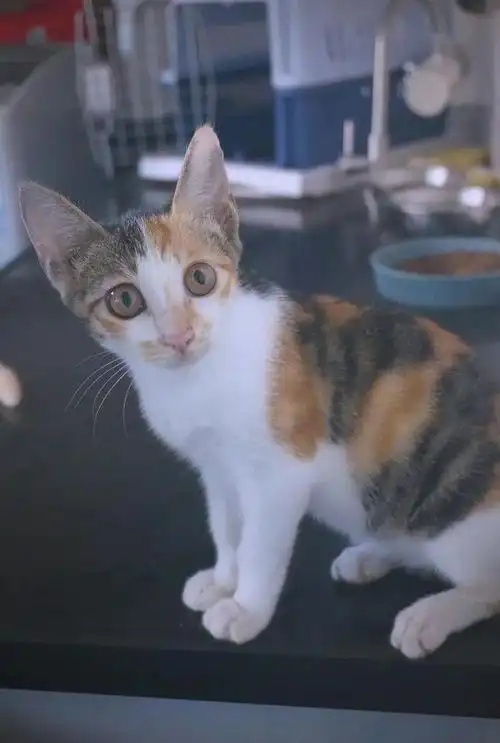三花猫: (20, 126, 364, 641)
